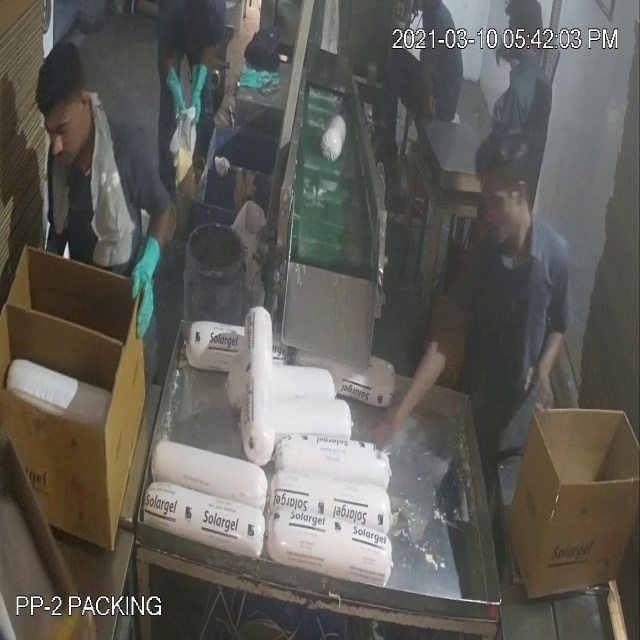Guantes: (124, 231, 171, 334), (187, 53, 208, 133), (164, 68, 187, 132)
Sin_guantes: (361, 286, 468, 474), (522, 318, 572, 434)
